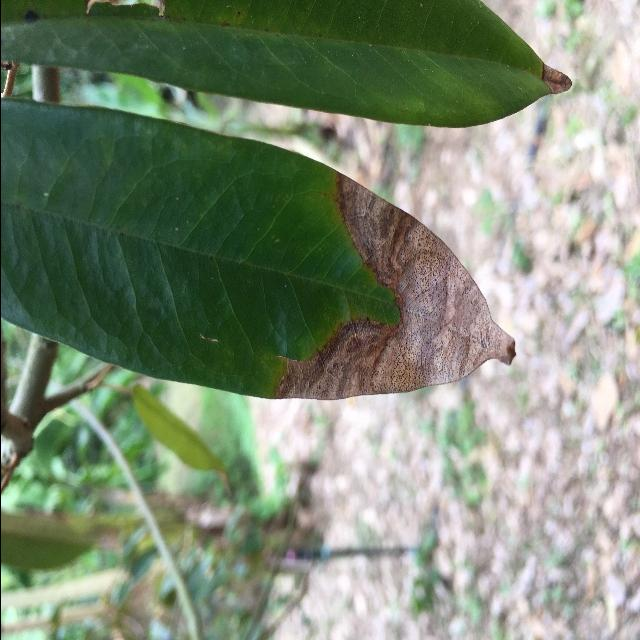Leaf Blight: (0, 91, 527, 405)
